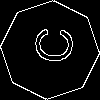C: (25, 25, 74, 65)
